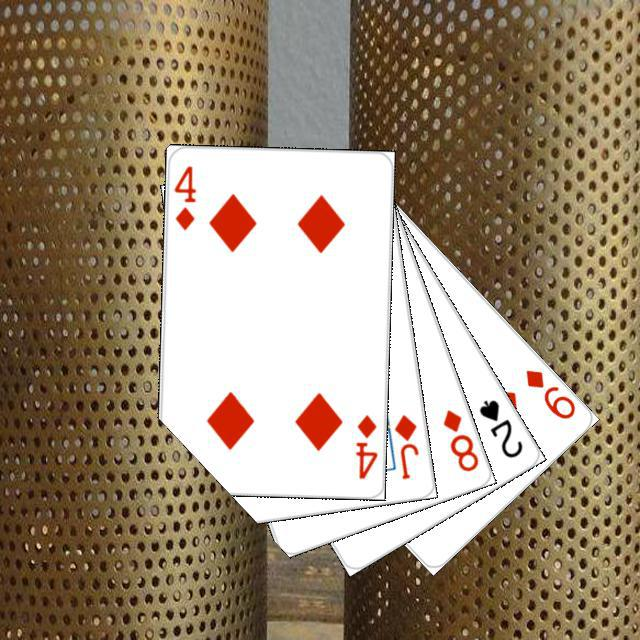2s: (473, 394, 525, 460)
4d: (169, 160, 198, 232), (350, 410, 378, 481)
8d: (438, 404, 481, 474)
9d: (520, 364, 577, 422)
Jd: (389, 409, 420, 481)
